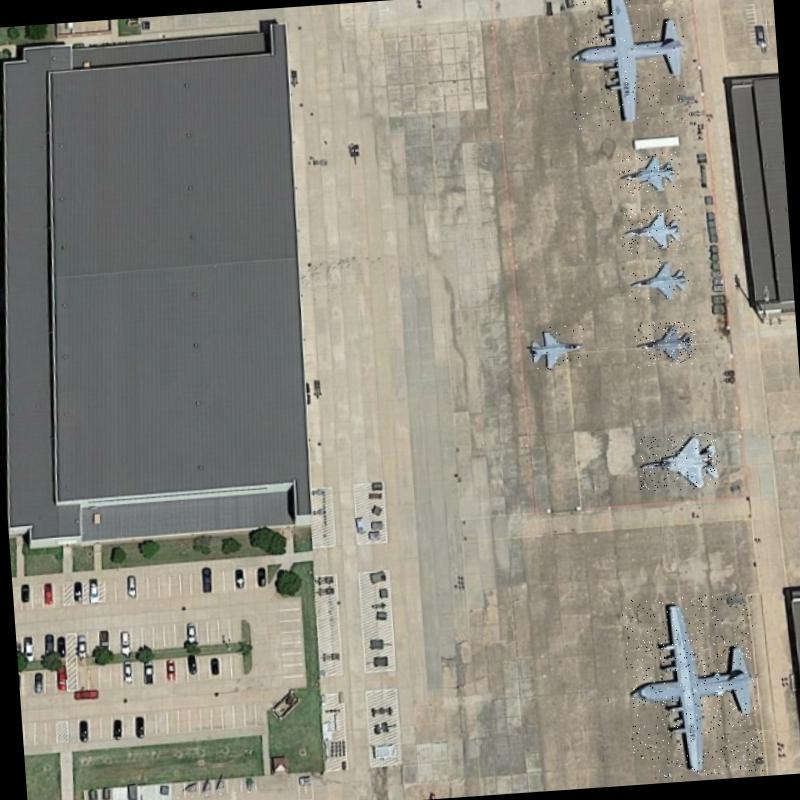A13: (636, 431, 721, 492)
A2: (620, 591, 764, 780), (564, 0, 692, 129)
A5: (632, 318, 697, 368), (618, 205, 684, 254), (618, 150, 682, 196), (527, 323, 588, 371), (626, 255, 690, 300)
